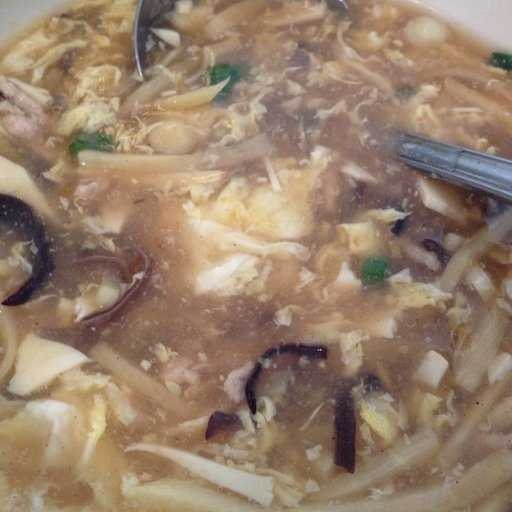soup: (3, 8, 498, 510)
